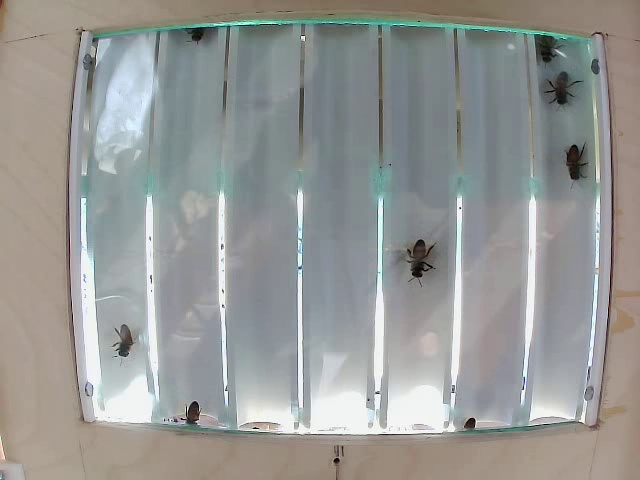bee: (532, 26, 564, 76), (557, 140, 586, 184), (551, 81, 583, 115), (402, 237, 424, 275), (184, 400, 206, 432), (123, 330, 143, 351)
